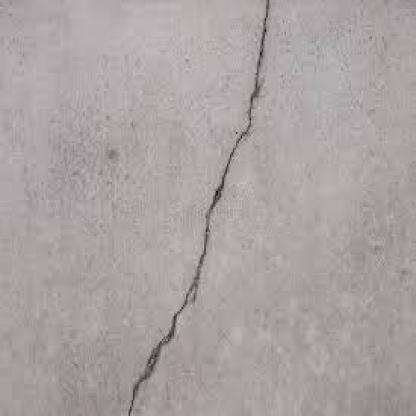SurfaceCrack: (120, 0, 280, 413)
